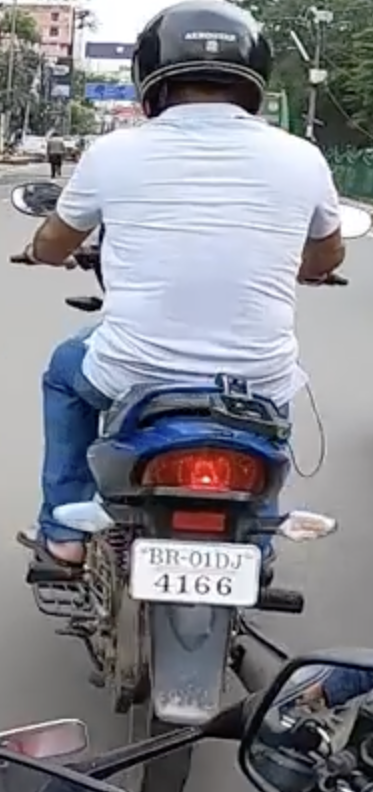motor: (11, 177, 362, 747)
number: (133, 539, 257, 606)
with helmet: (131, 1, 271, 118)
